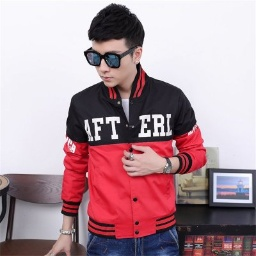face: (88, 3, 146, 87)
